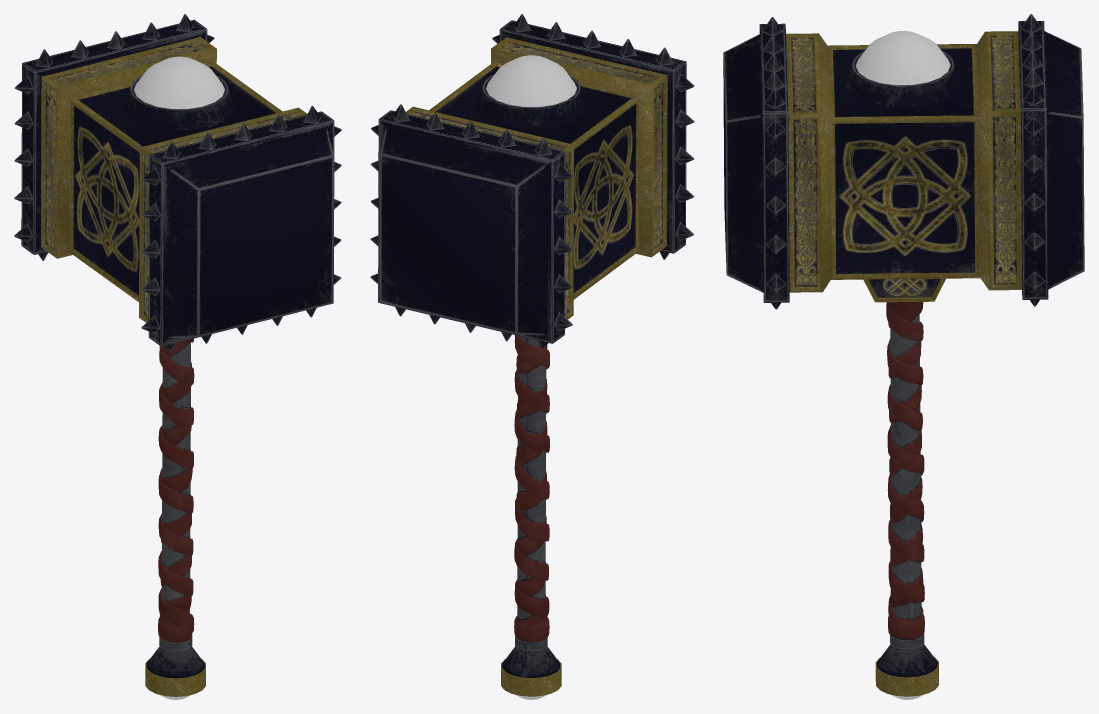
The model's file is hammer.glb.
The picture shows the model from 3 angles, left to right: view 1: azimuth 30°, elevation 25°; view 2: azimuth 150°, elevation 25°; view 3: azimuth 270°, elevation 25°; orthographic projection. The views are drawn at different scales.
Parts seen in each view (by area): view 1: Object001__0; view 2: Object001__0; view 3: Object001__0.
Boxes of the visible parts, <box> form: Object001__0: <box>14,14,341,699</box>; Object001__0: <box>370,14,694,699</box>; Object001__0: <box>723,14,1084,699</box>.
Bounding box in the file's own units: 18.72 × 55.77 × 27.68.
Materials: 1 (1 with a texture image).
